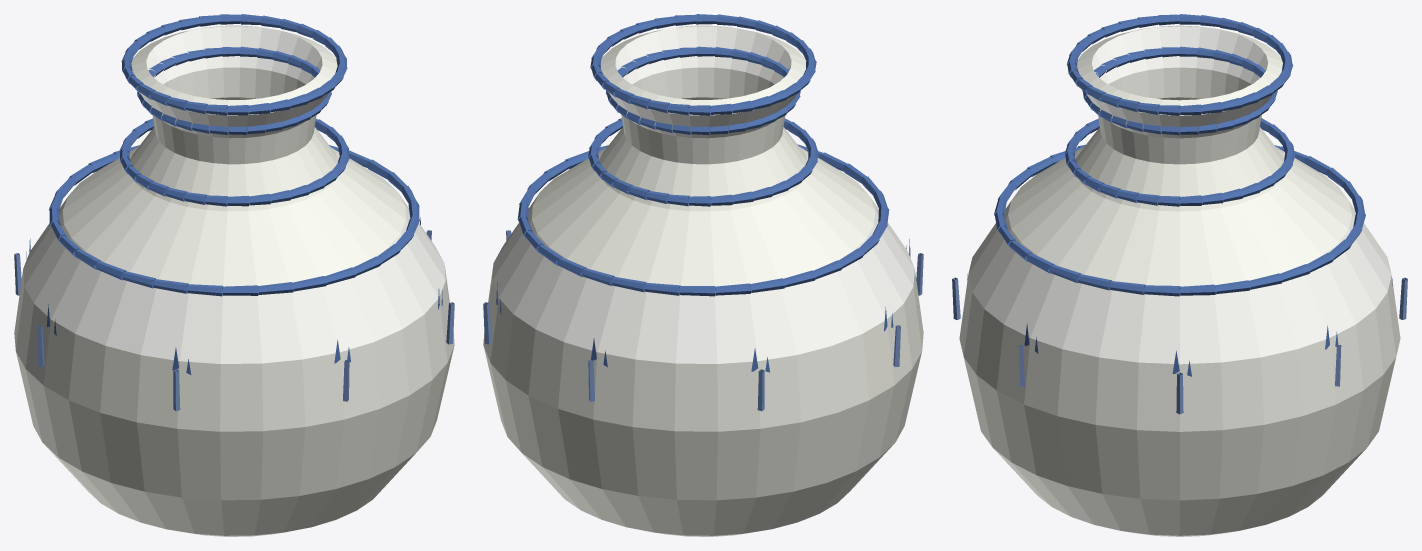
The model's file is porcelain.glb.
The picture shows the model from 3 angles, left to right: view 1: azimuth 30°, elevation 25°; view 2: azimuth 150°, elevation 25°; view 3: azimuth 270°, elevation 25°; orthographic projection.
Visible parts, largest first — view 1: porcelain_trade_good; view 2: porcelain_trade_good; view 3: porcelain_trade_good.
Part boxes in pixels (left/top/right/bottom): porcelain_trade_good: left=14, top=14, right=454, bottom=536; porcelain_trade_good: left=483, top=14, right=923, bottom=536; porcelain_trade_good: left=952, top=14, right=1407, bottom=536.
Bounding box in the file's own units: 1.03 × 1.07 × 1.03.
